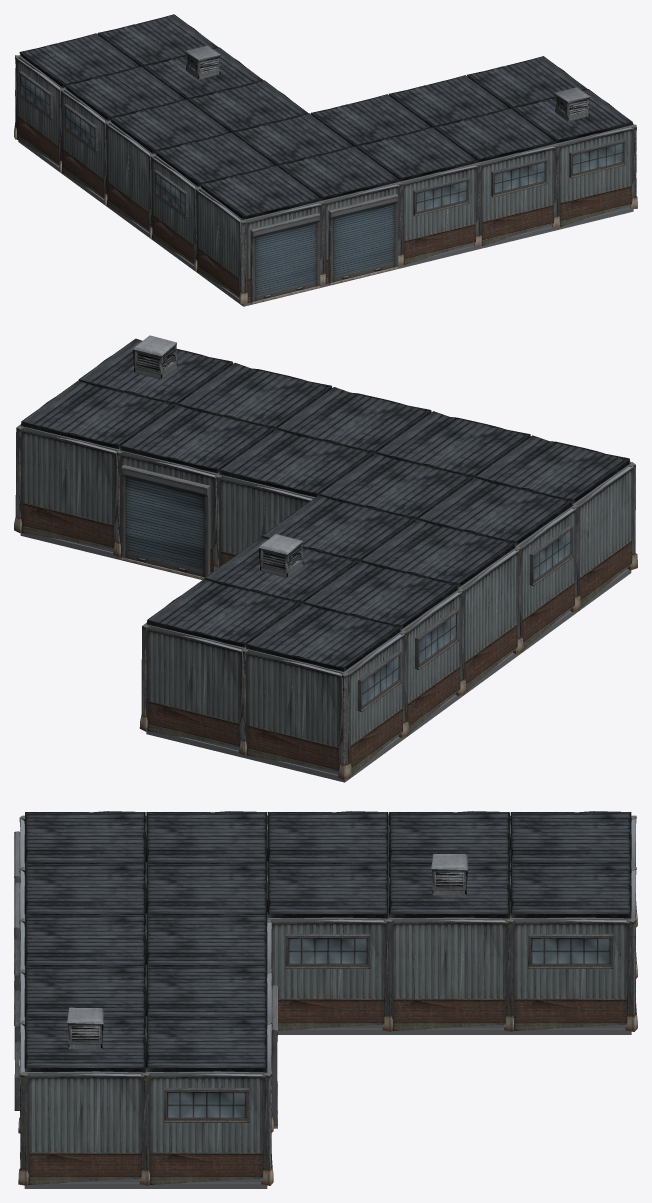
Rendered from l-shaped-transfer.glb.
3 views of the same model, one above another, from view 1: azimuth 30°, elevation 25°; view 2: azimuth 150°, elevation 25°; view 3: azimuth 270°, elevation 25° (orthographic). The views are drawn at different scales.
Visible parts, largest first — view 1: door_068, door_050, wall_079, wall_090, wall_084, roof_001, roof_031, roof_016, roof_037, wall_051, wall_056, roof_010 (+25 smaller); view 2: wall_077, wall_098, wall_061, door_089, roof_013, roof_028, roof_046, roof_040, roof_034, roof_001, roof_004, roof_010 (+22 smaller); view 3: wall_072, wall_093, wall_074, wall_095, wall_069, roof_028, roof_022, roof_046, roof_013, roof_019, roof_007, roof_004 (+26 smaller).
Part boxes in pixels (x1,y1,x2,y2): door_068: (328,194,398,285); door_050: (250,213,320,304); wall_079: (401,165,478,264); wall_090: (557,127,634,226); wall_084: (479,146,556,245); roof_001: (199,165,321,219); roof_031: (356,127,477,181); roof_016: (277,146,399,200); roof_037: (434,108,555,162); wall_051: (195,189,241,296); wall_056: (105,123,150,230); roof_010: (64,66,185,120); wall_077: (144,627,243,747); wall_098: (18,429,117,548); wall_061: (244,651,342,771); door_089: (121,465,210,579); roof_013: (246,603,401,671); roof_028: (146,579,301,647); roof_046: (21,380,175,449); roof_040: (120,404,274,473); roof_034: (219,429,374,497); roof_001: (475,435,630,503); roof_004: (418,477,573,545); roof_010: (303,561,458,629); wall_072: (389,919,509,1030); wall_093: (24,1073,145,1184); wall_074: (510,919,631,1030); wall_095: (146,1073,267,1184); wall_069: (268,919,388,1030); roof_028: (510,862,631,918); roof_022: (267,862,388,918); roof_046: (146,1016,267,1072); roof_013: (510,811,631,864); roof_019: (146,862,267,917); roof_007: (267,811,388,864); roof_004: (146,811,267,866).
Size of the model in its own units: 20.66 by 5.41 by 20.56.
Materials: 7 (6 with a texture image).
